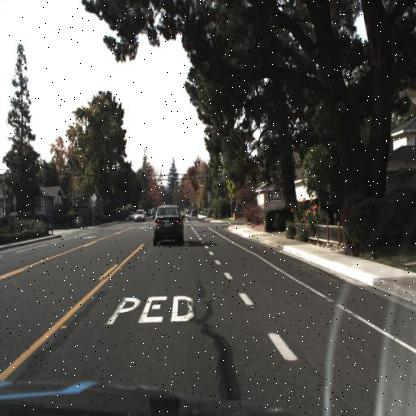car: (151, 205, 185, 247), (134, 208, 146, 223)
